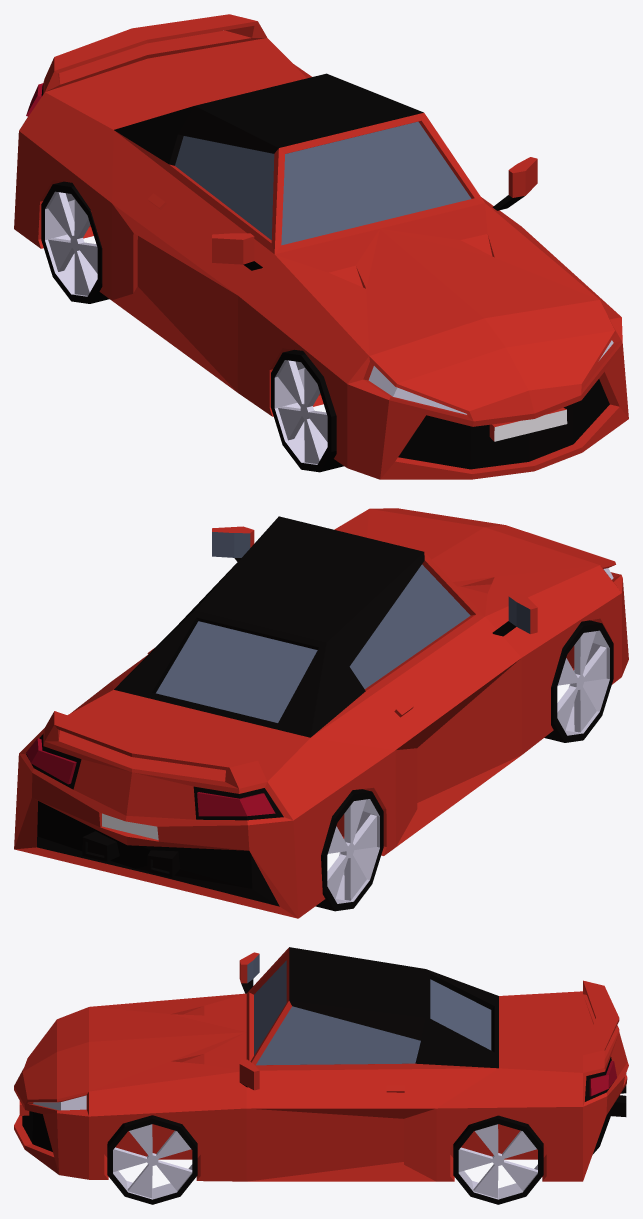
Rendered from sports.glb.
The picture shows the model from 3 angles, top to bottom: view 1: azimuth 30°, elevation 25°; view 2: azimuth 150°, elevation 25°; view 3: azimuth 270°, elevation 25°; orthographic projection. The views are drawn at different scales.
Parts seen in each view (by area): view 1: Sports, FrontWheelRight, BackWheelRight; view 2: Sports, FrontWheelRight, BackWheelRight; view 3: Sports, FrontWheelLeft, BackWheelLeft.
Boxes of the visible parts, box(x1,y1,x2,y2) form: Sports: box(14, 14, 628, 479); FrontWheelRight: box(271, 349, 343, 472); BackWheelRight: box(41, 181, 109, 303); Sports: box(14, 508, 628, 918); FrontWheelRight: box(544, 620, 613, 742); BackWheelRight: box(315, 789, 383, 911); Sports: box(14, 947, 628, 1181); FrontWheelLeft: box(107, 1115, 197, 1204); BackWheelLeft: box(453, 1115, 543, 1204).
Size of the model in its own units: 2.63 by 1.84 by 5.73.
